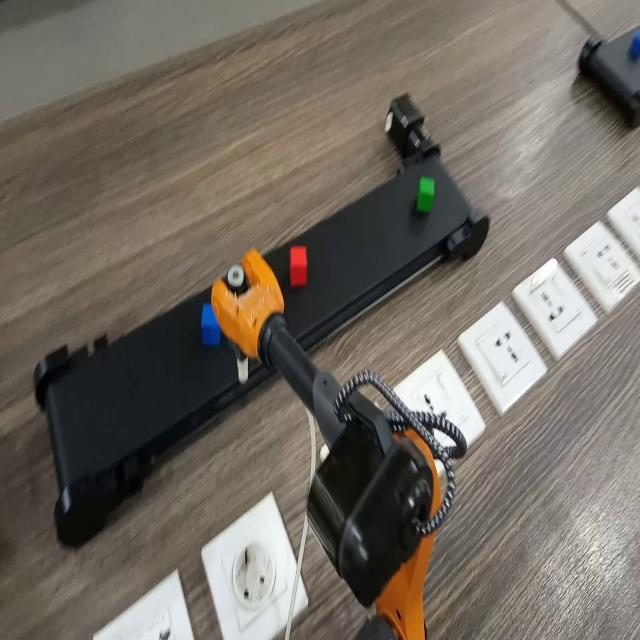cube: (412, 173, 444, 220), (198, 301, 228, 350), (285, 242, 314, 289)
